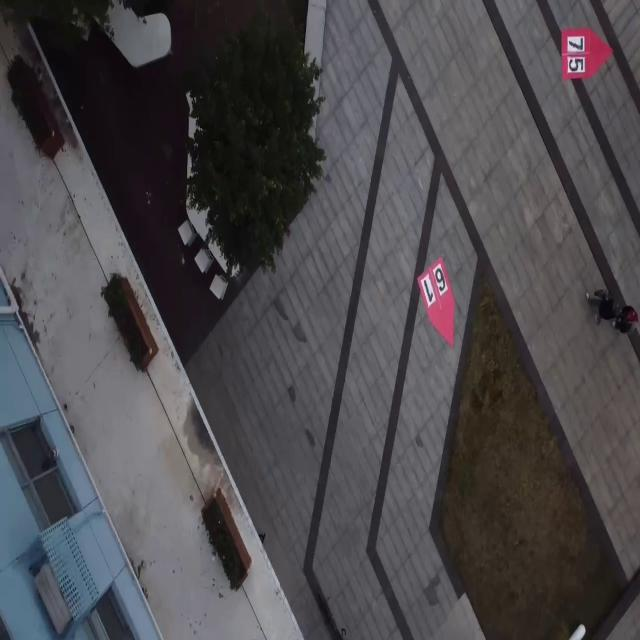-sign-: (417, 256, 455, 348), (562, 27, 612, 80)
